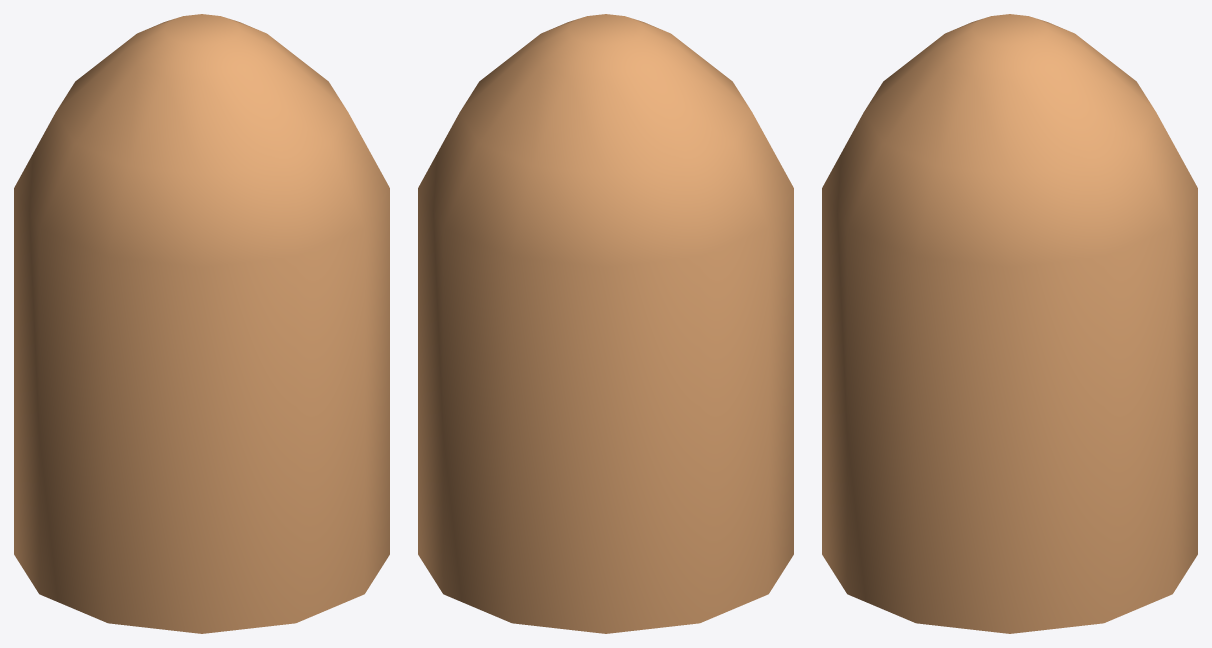
Rendered from Projectile.fbx.
3 renders of one model, left to right at view 1: azimuth 30°, elevation 25°; view 2: azimuth 150°, elevation 25°; view 3: azimuth 270°, elevation 25°, orthographic.
Visible parts, largest first — view 1: Cylinder; view 2: Cylinder; view 3: Cylinder.
Part boxes in pixels (x1=…): Cylinder: x1=14, y1=14, x2=389, y2=633; Cylinder: x1=418, y1=14, x2=793, y2=633; Cylinder: x1=822, y1=14, x2=1197, y2=633.
Size of the model in its own units: 4.5 by 6.93 by 4.5.
